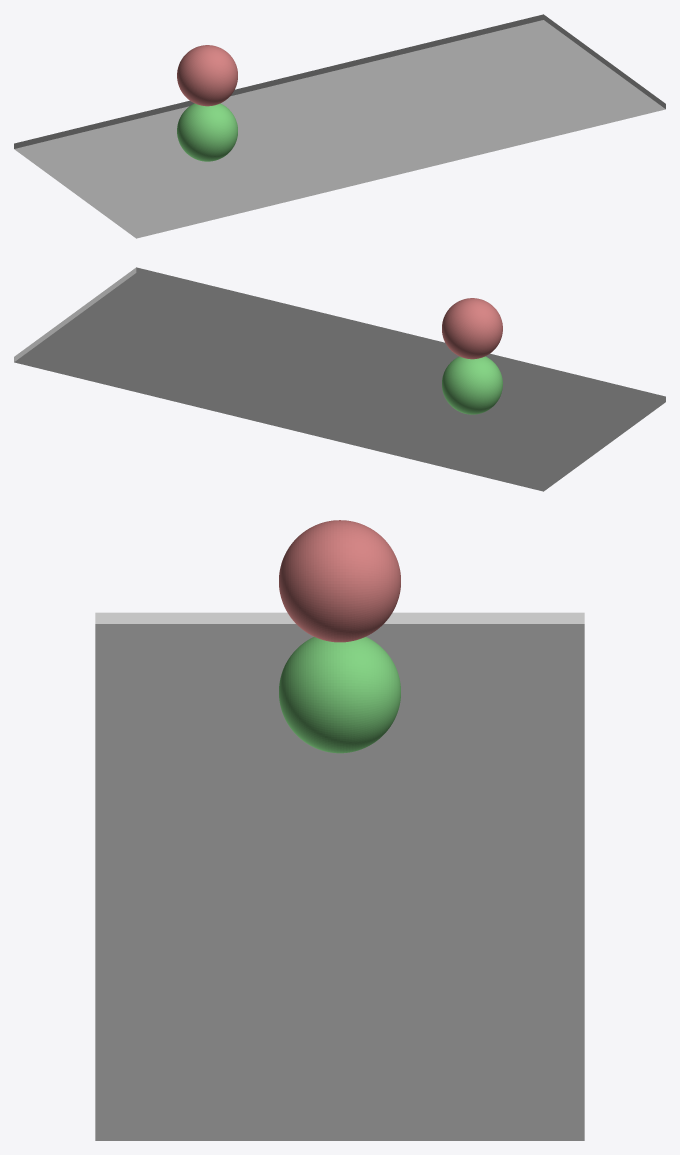
Rendered from units_timecode_scene.glb.
3 views of the same model, one above another, from view 1: azimuth 30°, elevation 25°; view 2: azimuth 150°, elevation 25°; view 3: azimuth 270°, elevation 25° (orthographic). The views are drawn at different scales.
Parts seen in each view (by area): view 1: Plane, LocalAnimation, ReferencedAnimation; view 2: Plane, LocalAnimation, ReferencedAnimation; view 3: Plane, LocalAnimation, ReferencedAnimation.
Part boxes in pixels (x1,y1,x2,y2): Plane: [14, 14, 665, 238]; LocalAnimation: [177, 45, 237, 106]; ReferencedAnimation: [177, 103, 237, 161]; Plane: [14, 267, 665, 491]; LocalAnimation: [442, 298, 502, 359]; ReferencedAnimation: [442, 356, 502, 414]; Plane: [95, 612, 584, 1140]; LocalAnimation: [279, 520, 400, 642]; ReferencedAnimation: [279, 637, 400, 753].
Size of the model in its own units: 20 by 4.1 by 8.
